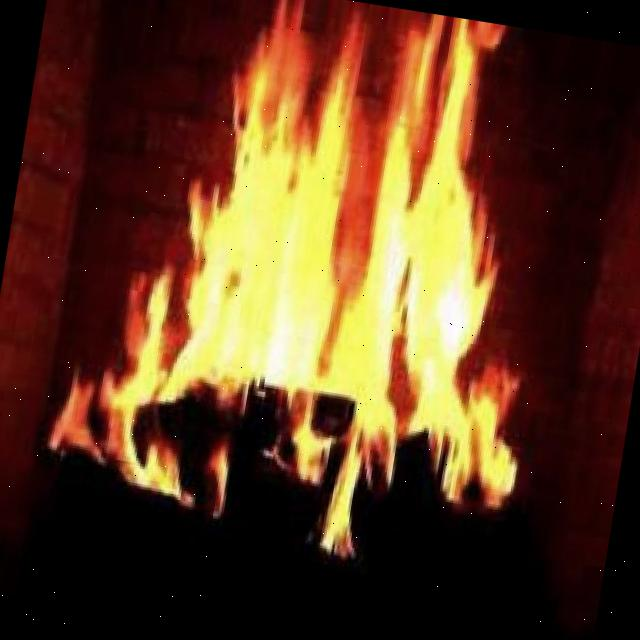fire: (142, 41, 562, 498)
